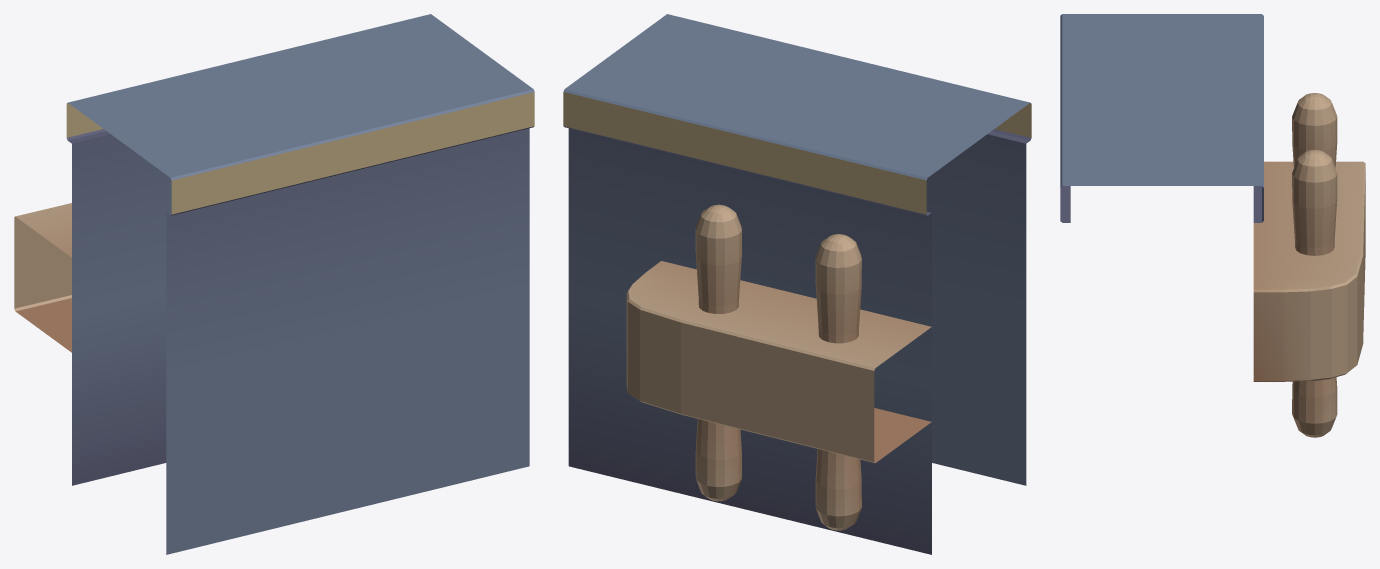
Rendered from BoatFence_hanger_corner.fbx.
3 renders of one model, left to right at view 1: azimuth 30°, elevation 25°; view 2: azimuth 150°, elevation 25°; view 3: azimuth 270°, elevation 25°, orthographic. The views are drawn at different scales.
Parts seen in each view (by area): view 1: Board_fence_holder; view 2: Board_fence_holder; view 3: Board_fence_holder.
Boxes of the visible parts, left/top/right/bottom form: Board_fence_holder: left=14, top=14, right=534, bottom=554; Board_fence_holder: left=563, top=14, right=1031, bottom=554; Board_fence_holder: left=1060, top=14, right=1365, bottom=437.
Size of the model in its own units: 200 by 200 by 150.
